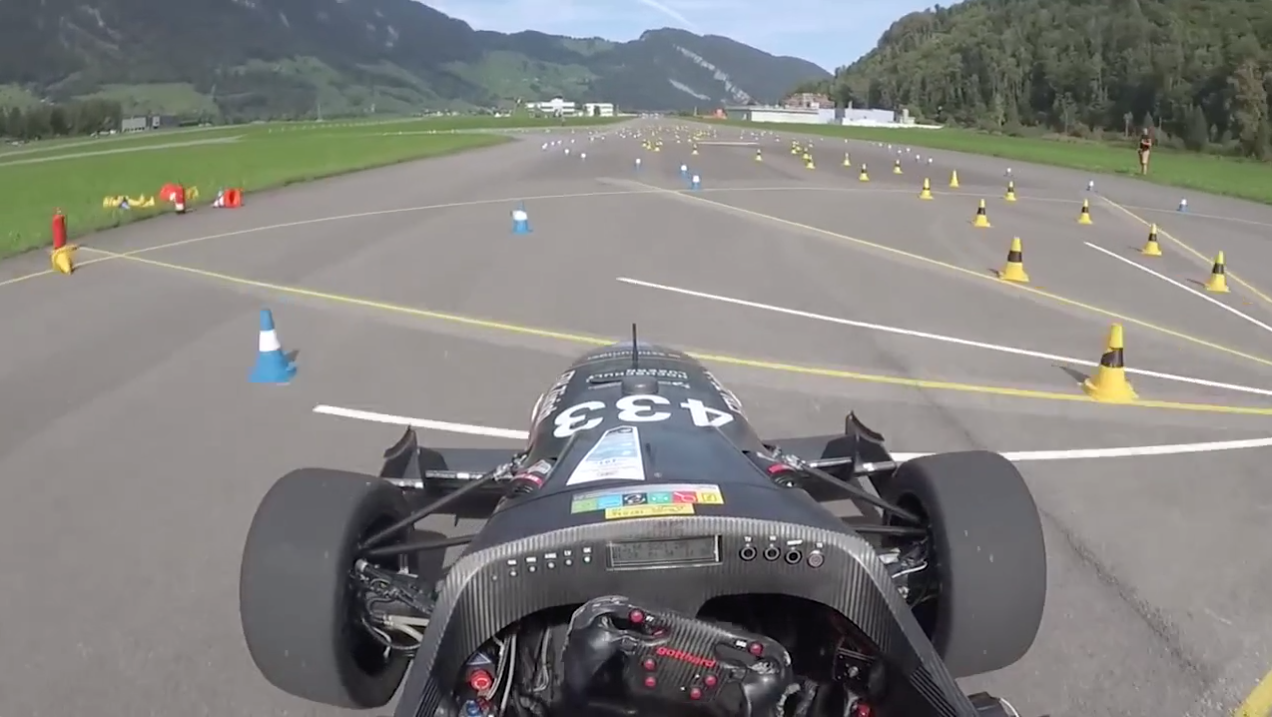lcone: (240, 303, 303, 389), (506, 194, 538, 238)
rcone: (1074, 319, 1142, 406), (990, 233, 1034, 288), (1197, 249, 1231, 296), (1138, 221, 1167, 260)
